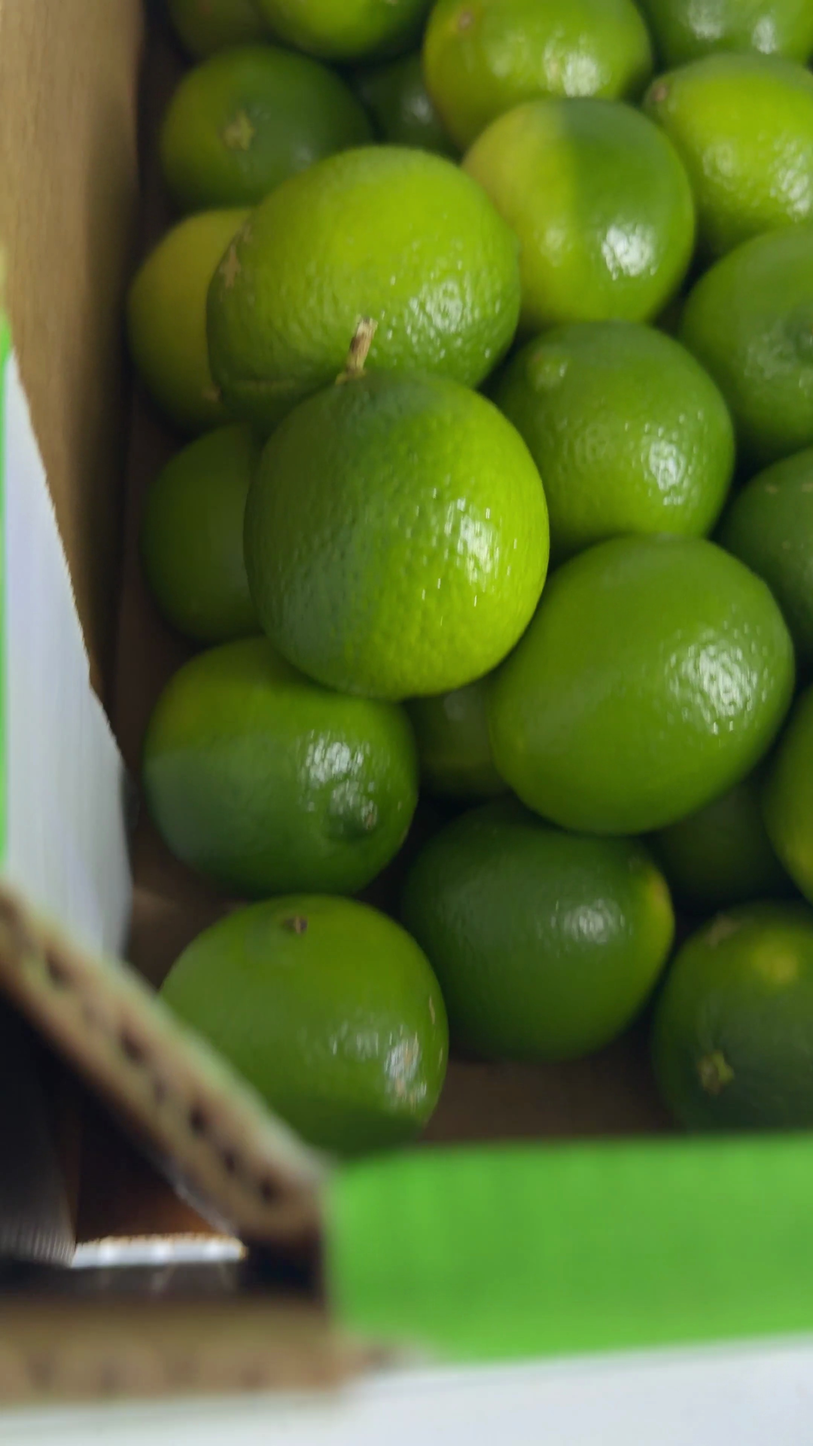lime: (245, 372, 548, 699), (490, 536, 793, 834), (208, 146, 520, 427), (161, 895, 448, 1154), (143, 639, 418, 897), (402, 801, 673, 1061), (493, 320, 732, 561), (463, 99, 694, 330), (652, 902, 813, 1130), (160, 45, 371, 210), (644, 53, 813, 255), (424, 0, 652, 149), (679, 223, 813, 467), (127, 209, 249, 433), (140, 425, 260, 644), (718, 448, 813, 674), (652, 775, 792, 914), (407, 680, 506, 800), (639, 0, 813, 66), (254, 0, 431, 62), (763, 687, 813, 901), (355, 54, 456, 156), (167, 0, 269, 57)
